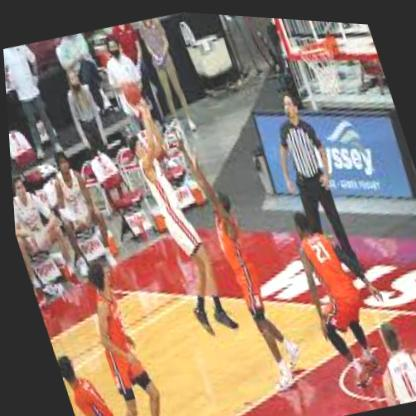basketball: (119, 75, 144, 103)
rim: (295, 31, 339, 63)
